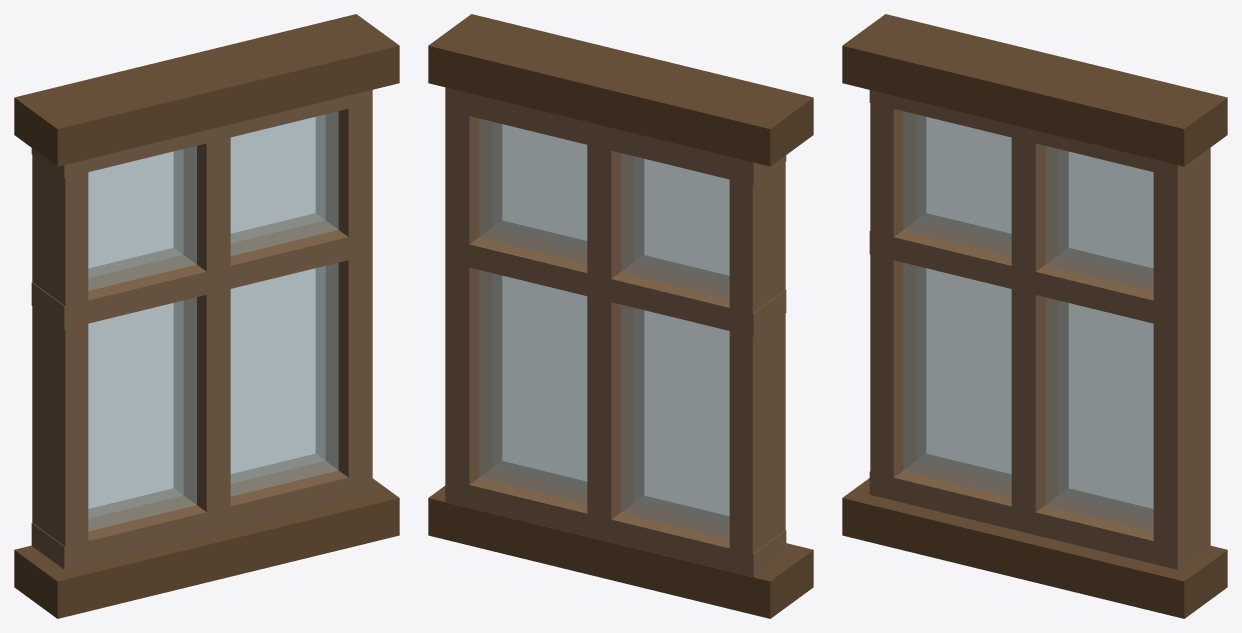
The model's file is pencere 1.1.fbx.
3 renders of one model, left to right at view 1: azimuth 30°, elevation 25°; view 2: azimuth 150°, elevation 25°; view 3: azimuth 330°, elevation 25°, orthographic.
Parts seen in each view (by area): view 1: pCube34; view 2: pCube34; view 3: pCube34.
Boxes of the visible parts, left/top/right/bottom form: pCube34: left=14, top=14, right=399, bottom=618; pCube34: left=428, top=14, right=813, bottom=618; pCube34: left=842, top=14, right=1227, bottom=618.
Size of the model in its own units: 627 by 857 by 137.
